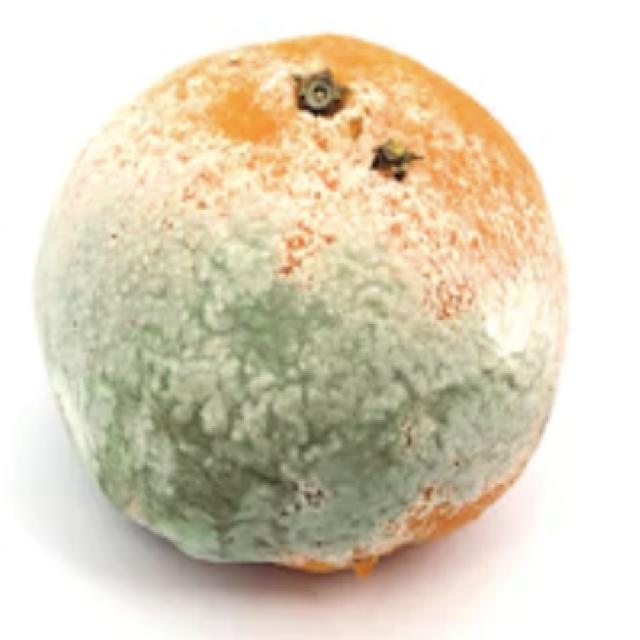rotten-orange: (32, 30, 562, 579)
